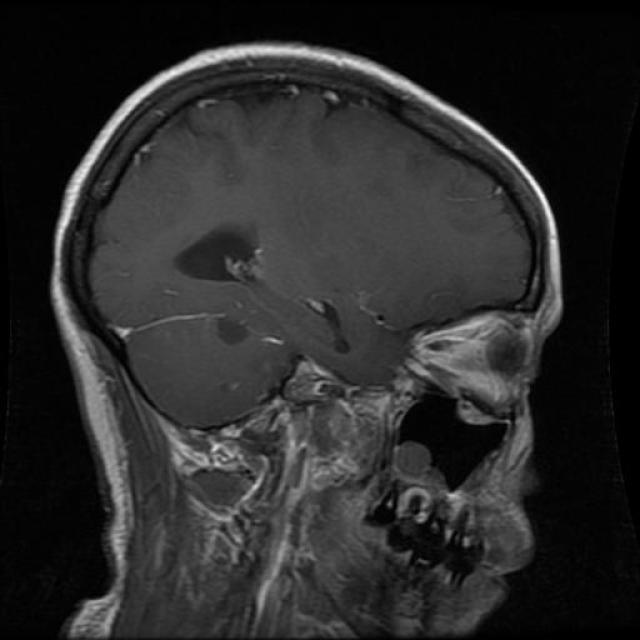glioma: (174, 224, 278, 288)
